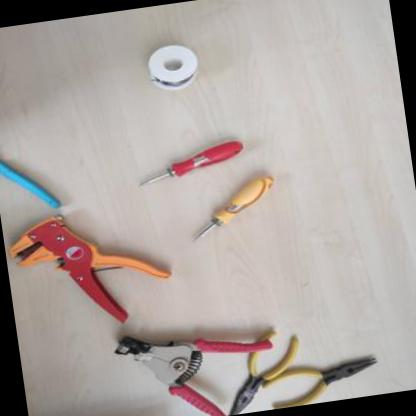Screwdriver: (178, 168, 286, 244), (128, 133, 250, 190)
